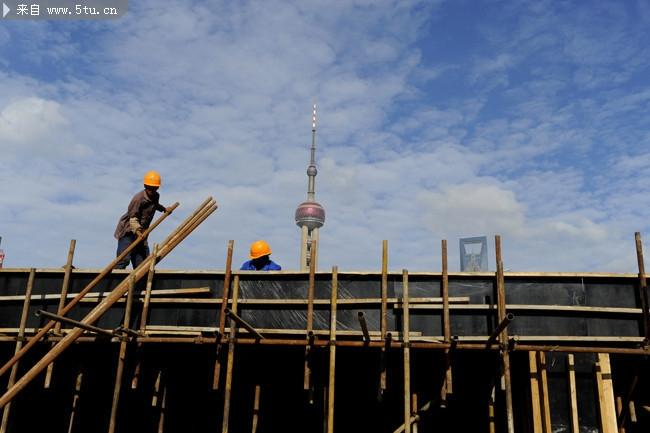helmet: (248, 239, 272, 258), (142, 172, 164, 188)
no_wear: (125, 194, 160, 239)
